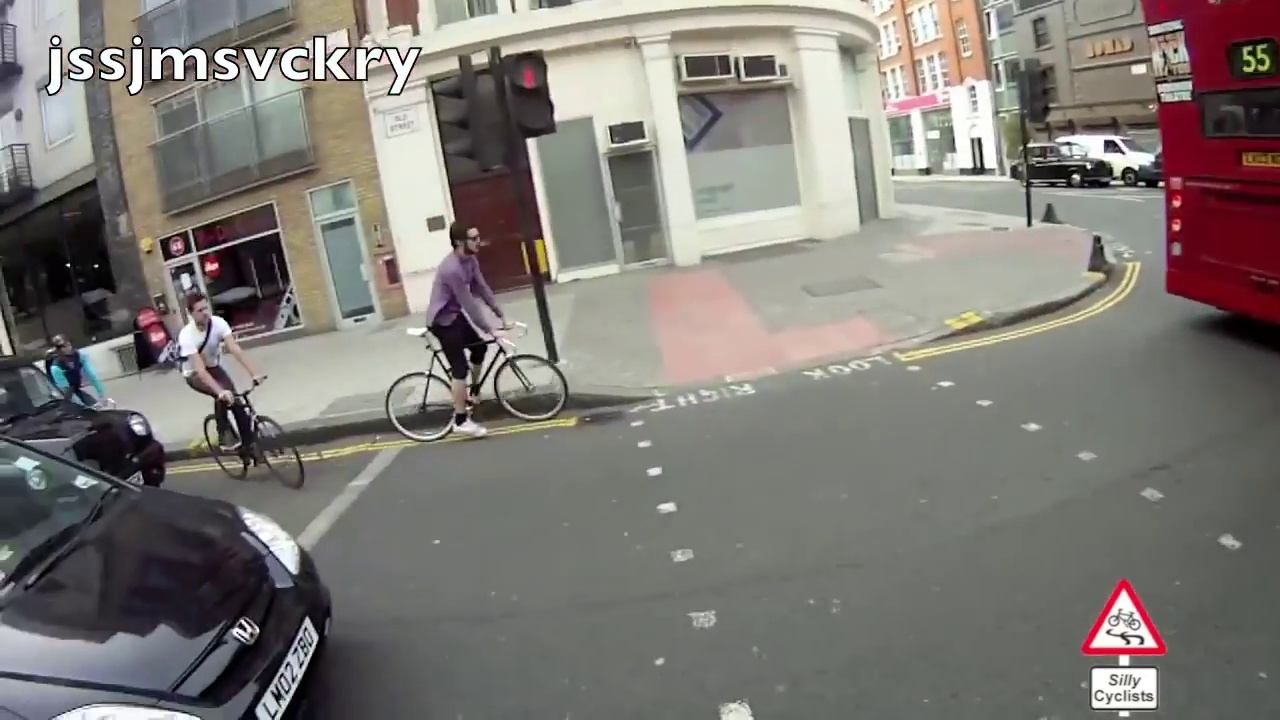cyclist_front: (171, 287, 318, 497)
cyclist_side: (390, 217, 570, 433)
